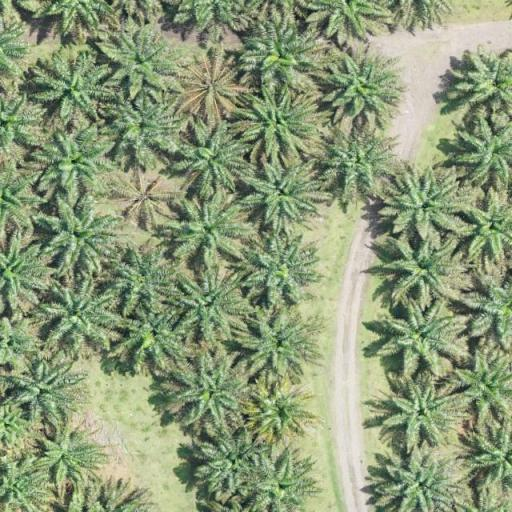Ganoderma: (187, 65, 240, 110), (118, 178, 168, 220)
